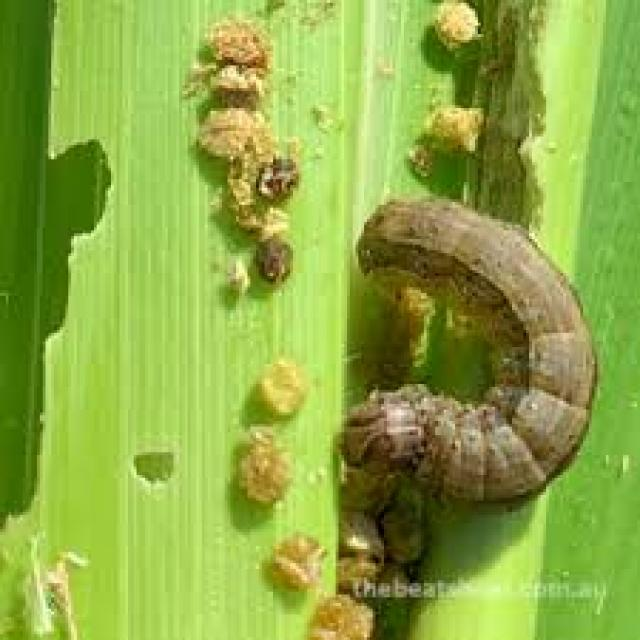armyworm: (349, 179, 593, 513)
